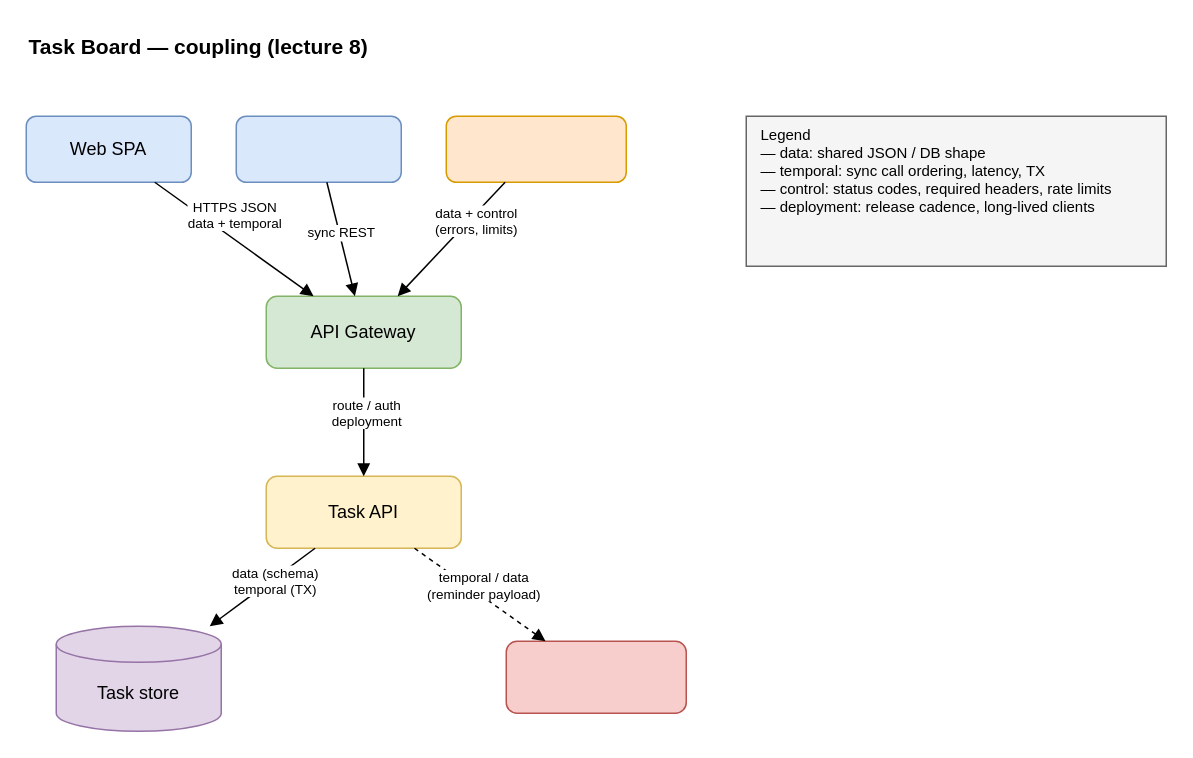
The diagram is 1193 pixels wide and 758 high, and some of its shapes have lost their labels. The shapes that lost their labels are listed below. From the top down, each one's centre as x and y in pixels, then its label:
At point (318, 148): "Mobile app".
At point (535, 148): "Partner client".
At point (595, 676): "Notification".
